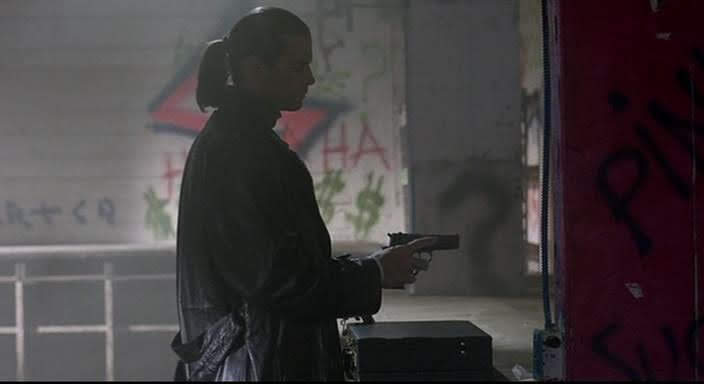gun: (370, 224, 473, 293)
